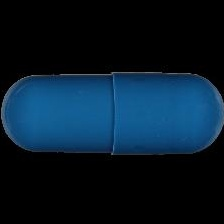53808-0253: (0, 0, 224, 224)
